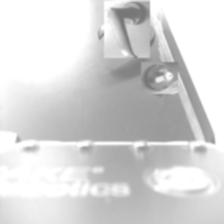Door Handle: (101, 3, 153, 55)
Lock: (142, 61, 176, 95)
